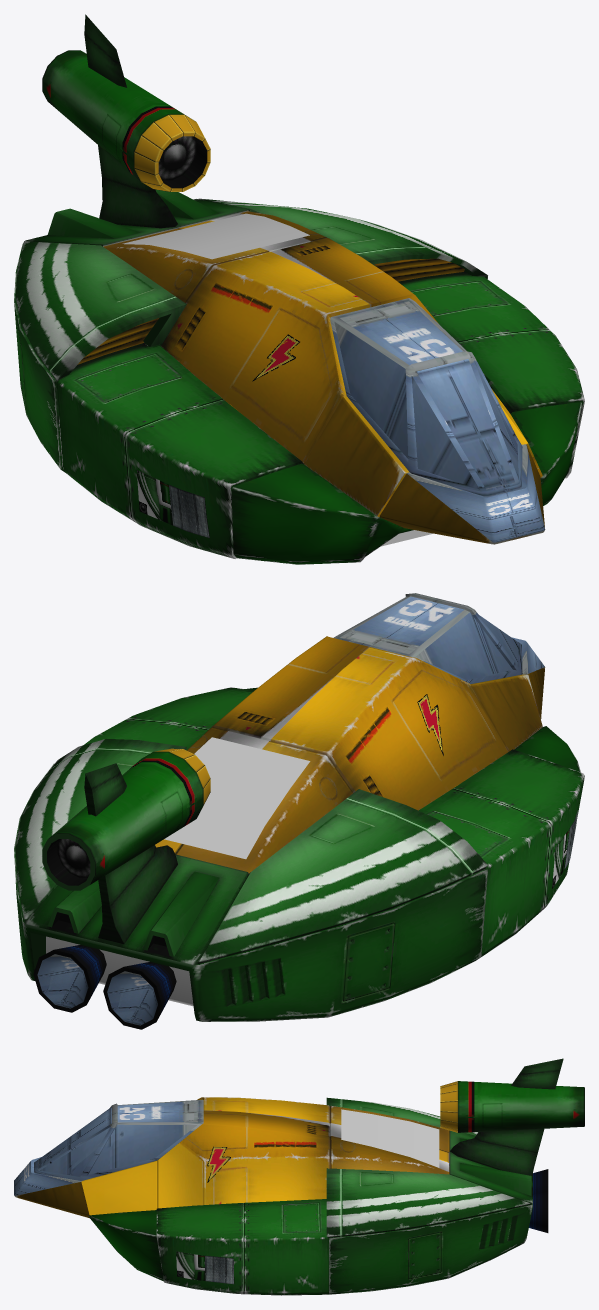
File: wildGoose.obj
The picture shows the model from 3 angles, top to bottom: view 1: azimuth 30°, elevation 25°; view 2: azimuth 150°, elevation 25°; view 3: azimuth 270°, elevation 25°; orthographic projection. The views are drawn at different scales.
Visible parts, largest first — view 1: 06_wildgoose_a_gxmat24, 06_wildgoose_a_gxmat12.001, 06_wildgoose_a_gxmat16.002, 06_wildgoose_a_gxmat3.001, 06_wildgoose_a_gxmat22.003, 06_wildgoose_a_gxmat7.003, 06_wildgoose_a_gxmat1.003, 06_wildgoose_a_gxmat9.001, 06_wildgoose_a_gxmat35.001, 06_wildgoose_a_gxmat14.002, 06_wildgoose_a_gxmat19.002, 06_wildgoose_a_gxmat27.001 (+5 smaller); view 2: 06_wildgoose_a_gxmat16.002, 06_wildgoose_a_gxmat12.001, 06_wildgoose_a_gxmat19.002, 06_wildgoose_a_gxmat24, 06_wildgoose_a_gxmat35.001, 06_wildgoose_a_gxmat3.001, 06_wildgoose_a_gxmat1.003, 06_wildgoose_a_gxmat30.001, 06_wildgoose_a_gxmat31.002, 06_wildgoose_a_gxmat7.003, 06_wildgoose_a_gxmat26.003, 06_wildgoose_a_gxmat11.001 (+3 smaller); view 3: 06_wildgoose_a_gxmat12.001, 06_wildgoose_a_gxmat16.002, 06_wildgoose_a_gxmat24, 06_wildgoose_a_gxmat19.002, 06_wildgoose_a_gxmat3.001, 06_wildgoose_a_gxmat1.003, 06_wildgoose_a_gxmat35.001, 06_wildgoose_a_gxmat22.003, 06_wildgoose_a_gxmat7.003, 06_wildgoose_a_gxmat14.002, 06_wildgoose_a_gxmat9.001, 06_wildgoose_a_gxmat31.002 (+4 smaller).
Boxes of the visible parts, <box> form: 06_wildgoose_a_gxmat24: <box>56,272,584,558</box>; 06_wildgoose_a_gxmat12.001: <box>103,211,542,517</box>; 06_wildgoose_a_gxmat16.002: <box>15,50,487,381</box>; 06_wildgoose_a_gxmat3.001: <box>334,300,518,489</box>; 06_wildgoose_a_gxmat22.003: <box>231,402,582,564</box>; 06_wildgoose_a_gxmat7.003: <box>330,298,522,496</box>; 06_wildgoose_a_gxmat1.003: <box>84,14,177,228</box>; 06_wildgoose_a_gxmat9.001: <box>407,444,544,542</box>; 06_wildgoose_a_gxmat35.001: <box>122,213,309,259</box>; 06_wildgoose_a_gxmat14.002: <box>379,445,545,544</box>; 06_wildgoose_a_gxmat19.002: <box>14,243,487,472</box>; 06_wildgoose_a_gxmat27.001: <box>134,114,210,191</box>; 06_wildgoose_a_gxmat16.002: <box>15,738,488,965</box>; 06_wildgoose_a_gxmat12.001: <box>155,636,542,873</box>; 06_wildgoose_a_gxmat19.002: <box>14,763,487,1021</box>; 06_wildgoose_a_gxmat24: <box>83,687,584,956</box>; 06_wildgoose_a_gxmat35.001: <box>164,737,310,859</box>; 06_wildgoose_a_gxmat3.001: <box>339,596,518,680</box>; 06_wildgoose_a_gxmat1.003: <box>84,763,177,943</box>; 06_wildgoose_a_gxmat30.001: <box>37,954,157,1025</box>; 06_wildgoose_a_gxmat31.002: <box>33,945,176,1029</box>; 06_wildgoose_a_gxmat7.003: <box>333,593,522,684</box>; 06_wildgoose_a_gxmat26.003: <box>47,839,166,949</box>; 06_wildgoose_a_gxmat11.001: <box>46,936,193,1006</box>; 06_wildgoose_a_gxmat12.001: <box>81,1097,449,1215</box>; 06_wildgoose_a_gxmat16.002: <box>326,1081,584,1237</box>; 06_wildgoose_a_gxmat24: <box>156,1199,328,1295</box>; 06_wildgoose_a_gxmat19.002: <box>329,1204,532,1294</box>; 06_wildgoose_a_gxmat3.001: <box>38,1101,198,1176</box>; 06_wildgoose_a_gxmat1.003: <box>450,1058,563,1176</box>; 06_wildgoose_a_gxmat35.001: <box>341,1109,439,1167</box>; 06_wildgoose_a_gxmat22.003: <box>88,1210,163,1281</box>; 06_wildgoose_a_gxmat7.003: <box>34,1100,203,1180</box>; 06_wildgoose_a_gxmat14.002: <box>14,1182,89,1217</box>; 06_wildgoose_a_gxmat9.001: <box>14,1157,81,1195</box>; 06_wildgoose_a_gxmat31.002: <box>529,1169,548,1232</box>.
Bounding box in the file's own units: 2.66 × 1.6 × 4.78.
